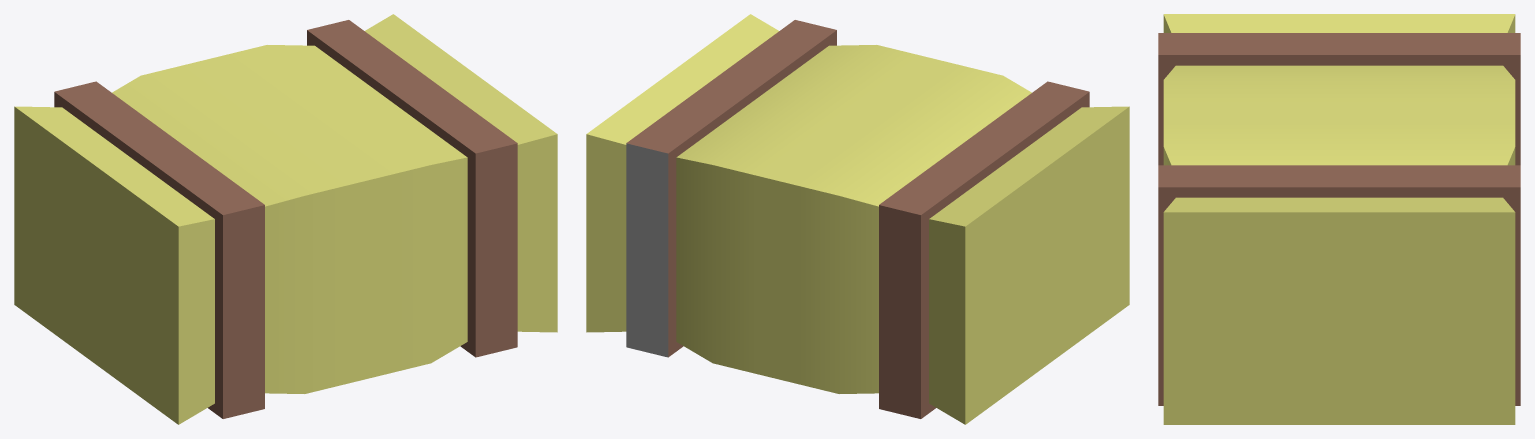
The model's file is Hay_Bale.fbx.
3 renders of one model, left to right at view 1: azimuth 30°, elevation 25°; view 2: azimuth 150°, elevation 25°; view 3: azimuth 270°, elevation 25°, orthographic. The views are drawn at different scales.
Parts seen in each view (by area): view 1: pCube1; view 2: pCube1; view 3: pCube1.
Boxes of the visible parts, x1,y1,x2,y2 form: pCube1: [14, 14, 557, 424]; pCube1: [586, 14, 1129, 424]; pCube1: [1158, 14, 1520, 424].
Size of the model in its own units: 1 by 0.5143 by 0.7714.
